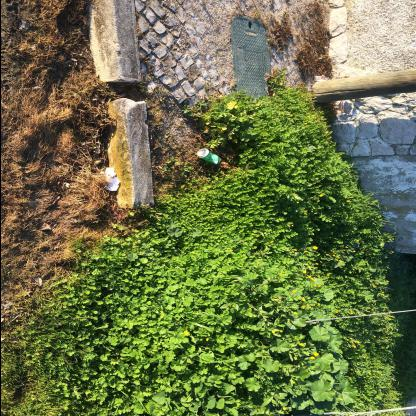metal: (197, 148, 221, 166)
